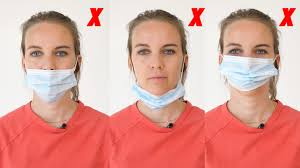mask_weared_incorrect: (131, 40, 186, 103), (25, 43, 76, 97)
with_mask: (224, 42, 274, 87)
